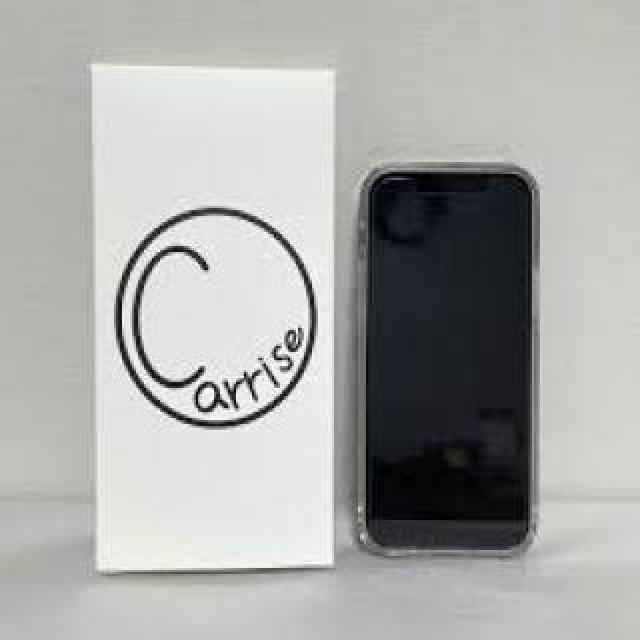smart phone: (342, 122, 558, 558)
